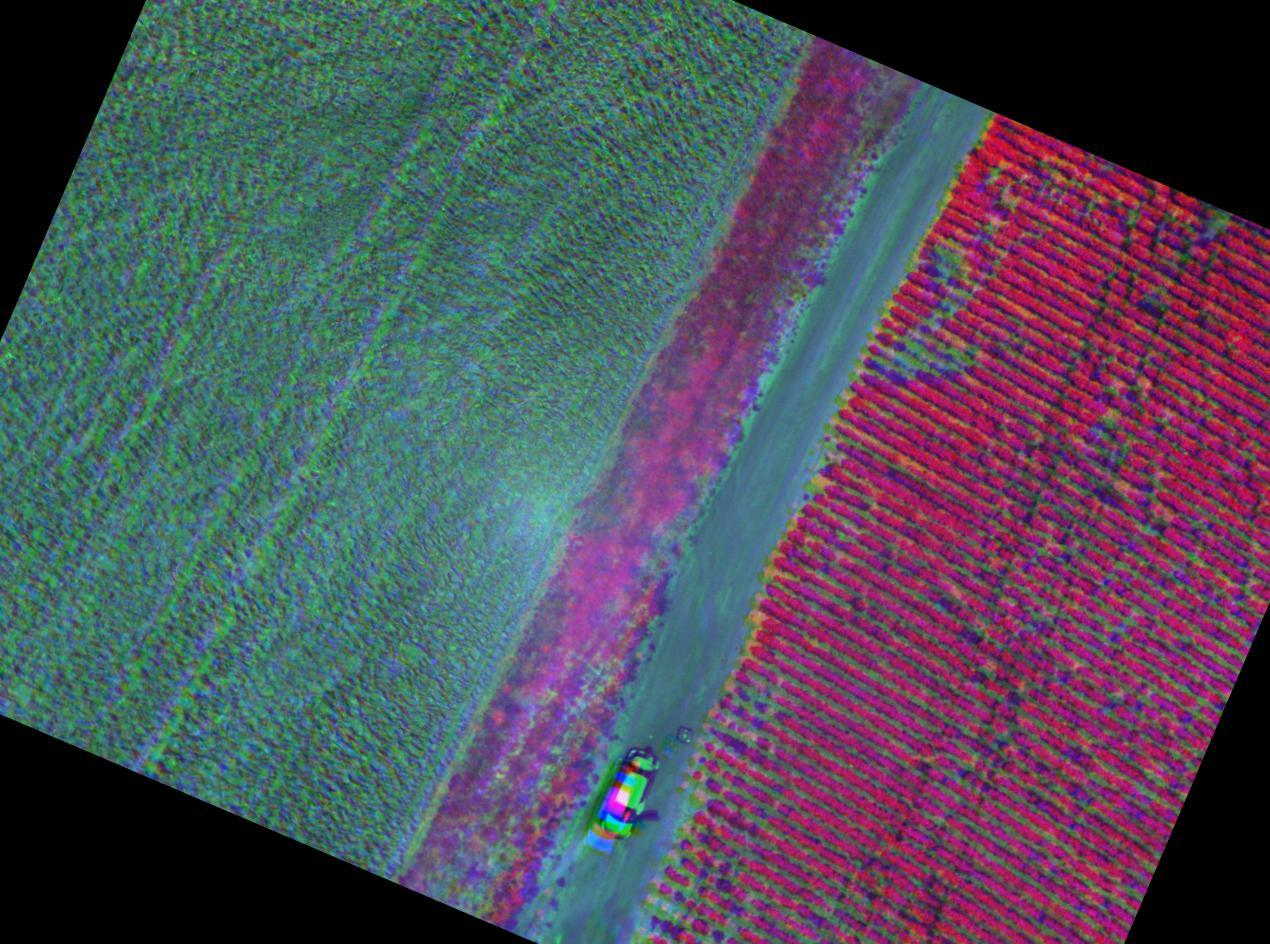dc: (878, 317, 994, 397), (717, 677, 796, 779), (806, 867, 902, 944), (920, 229, 987, 304), (655, 869, 725, 934)
